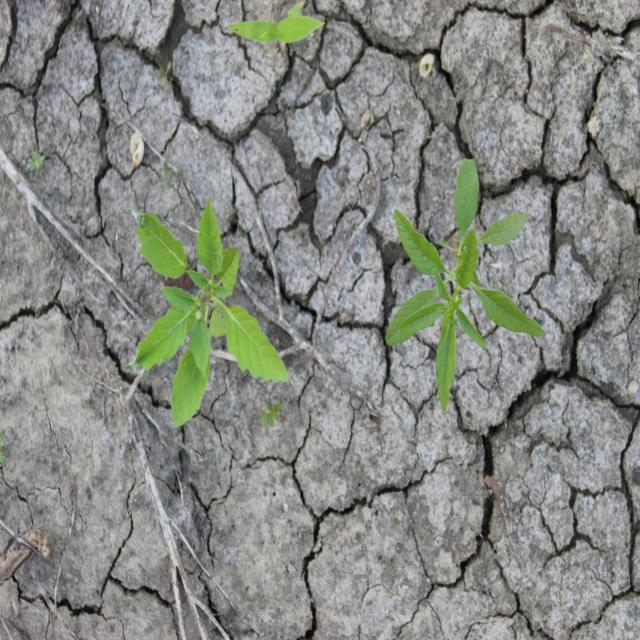CutleafGroundcherry: (121, 197, 290, 429)
Waterhemp: (383, 156, 544, 412)
